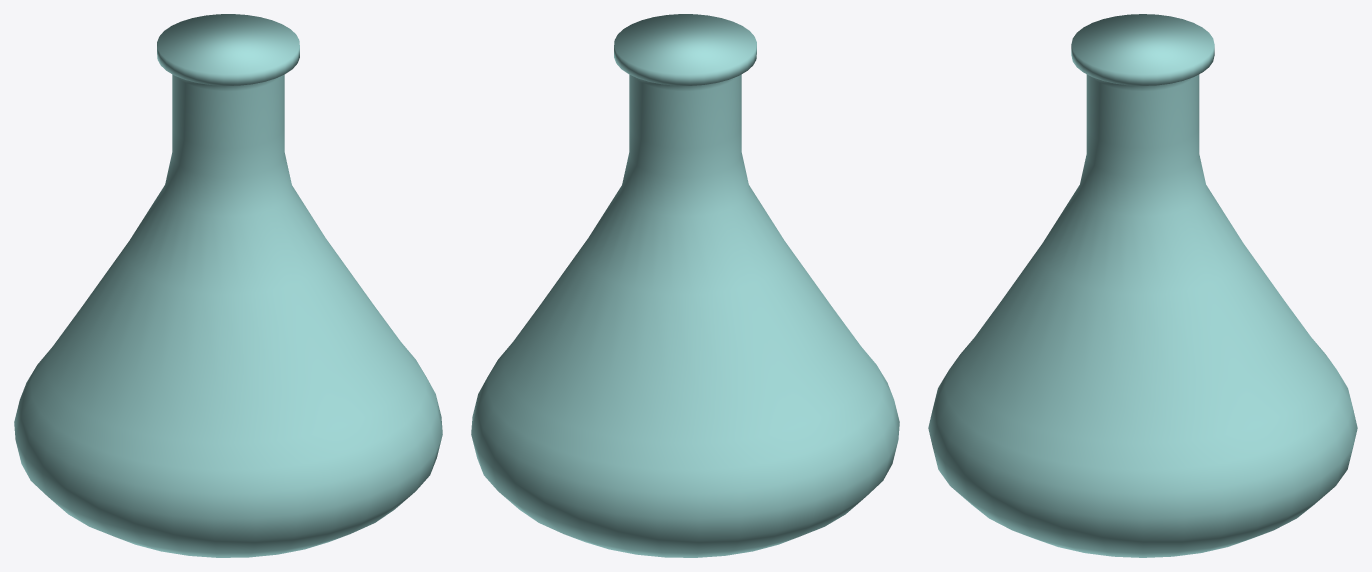
File: Potion.fbx
3 renders of one model, left to right at view 1: azimuth 30°, elevation 25°; view 2: azimuth 150°, elevation 25°; view 3: azimuth 270°, elevation 25°, orthographic.
Visible parts, largest first — view 1: Cylinder; view 2: Cylinder; view 3: Cylinder.
Part boxes in pixels (x1=…): Cylinder: x1=14, y1=14, x2=442, y2=557; Cylinder: x1=471, y1=14, x2=899, y2=557; Cylinder: x1=928, y1=14, x2=1357, y2=557.
Size of the model in its own units: 84.12 by 84.12 by 97.11.
